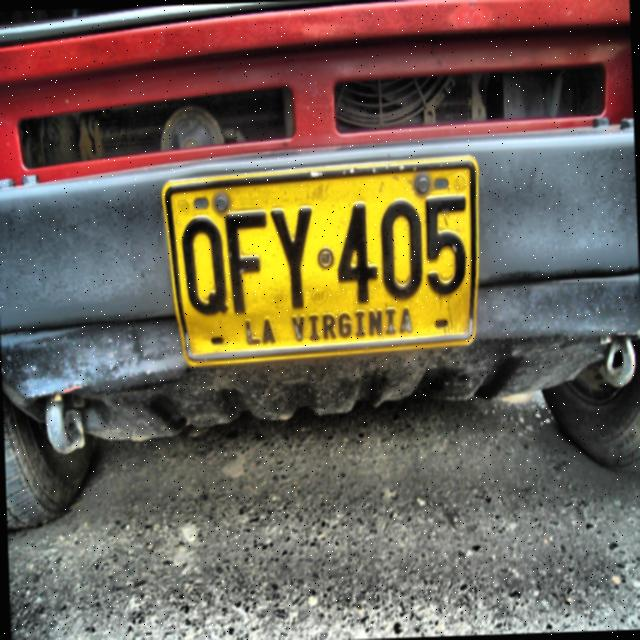plate: (164, 163, 473, 359)
